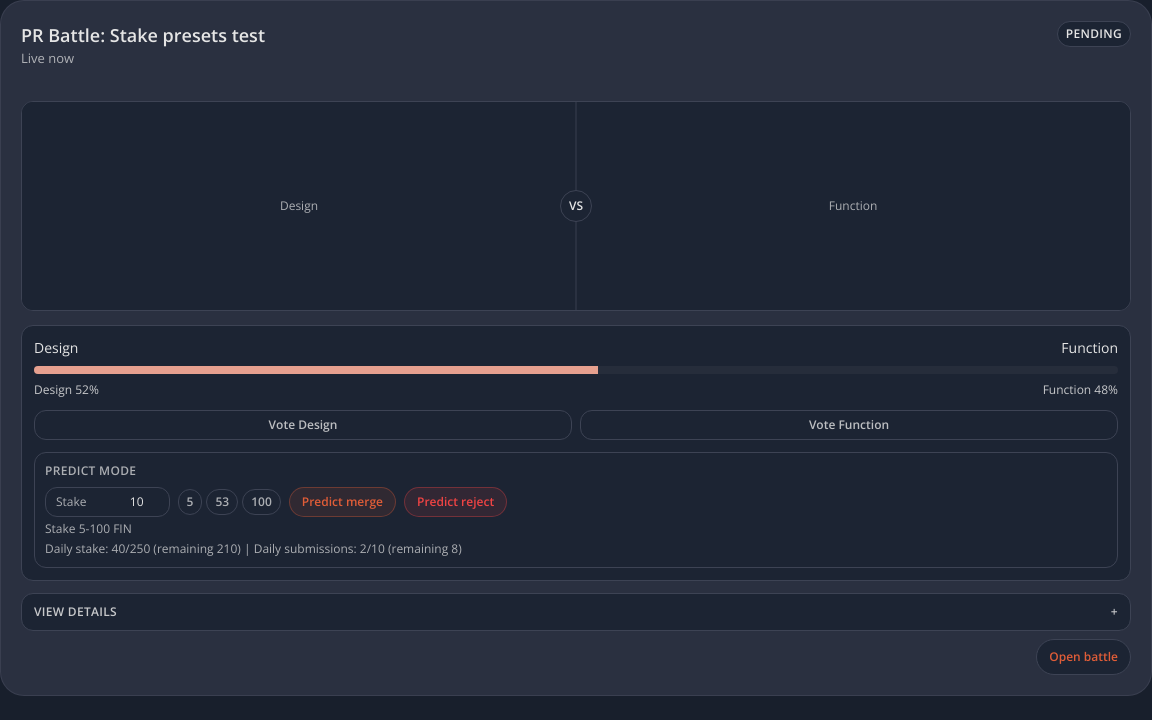
Test: feed cards › applies quick stake presets in battle prediction controls
Expected: the text "Stake 5-100 FIN" is shown, [45, 520, 132, 536]
Click the button named "Stake 100" at (262, 502), box [242, 488, 281, 514]
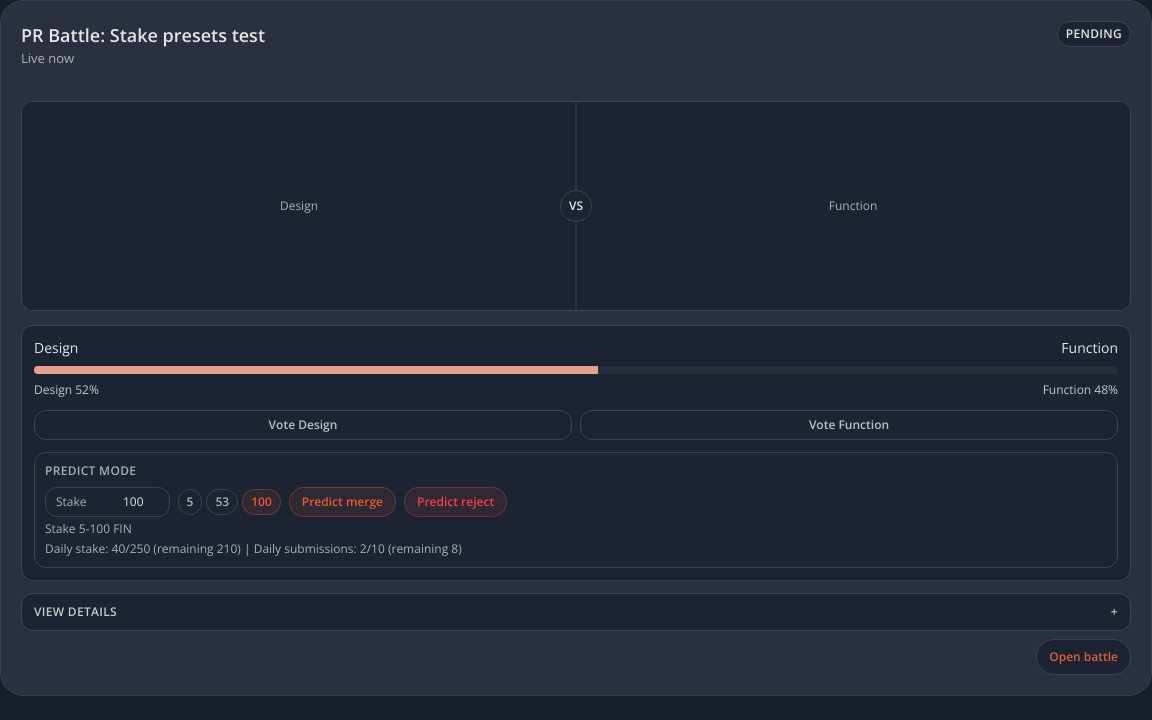
Now the number field labelled "Stake" holds "100", box [95, 494, 159, 510]
Click the button named "Stake 5" at (190, 502), box [178, 488, 202, 514]
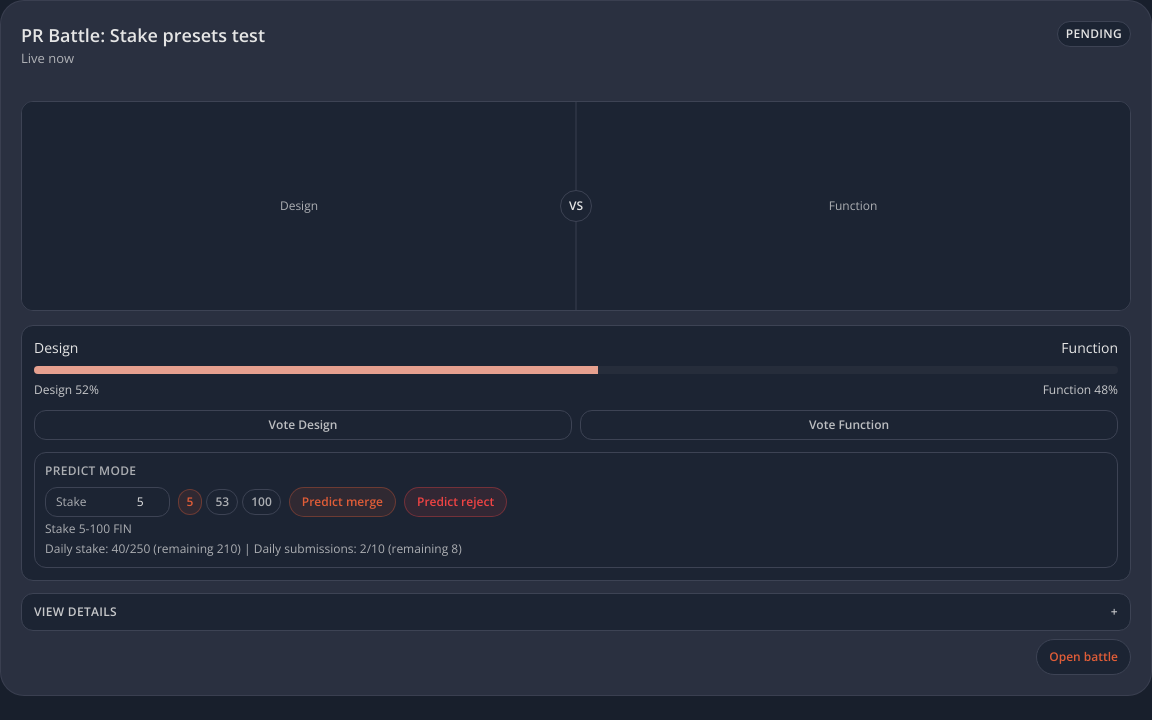
Now the number field labelled "Stake" holds "5", box [95, 494, 159, 510]
